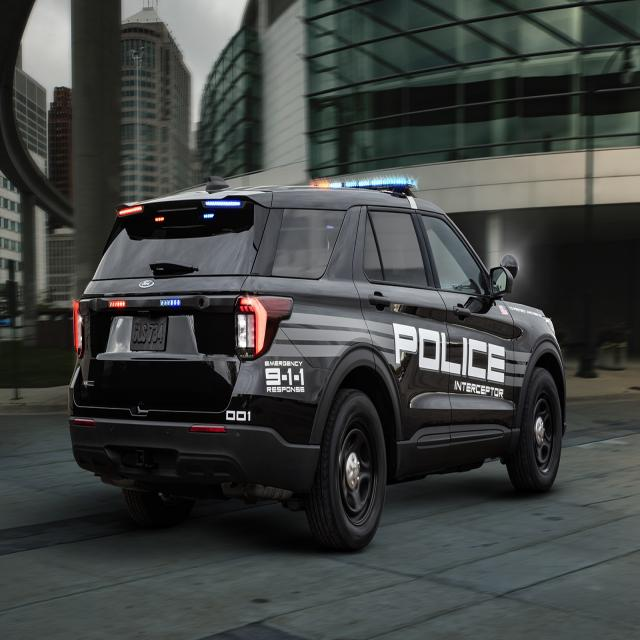cop: (74, 172, 574, 547)
